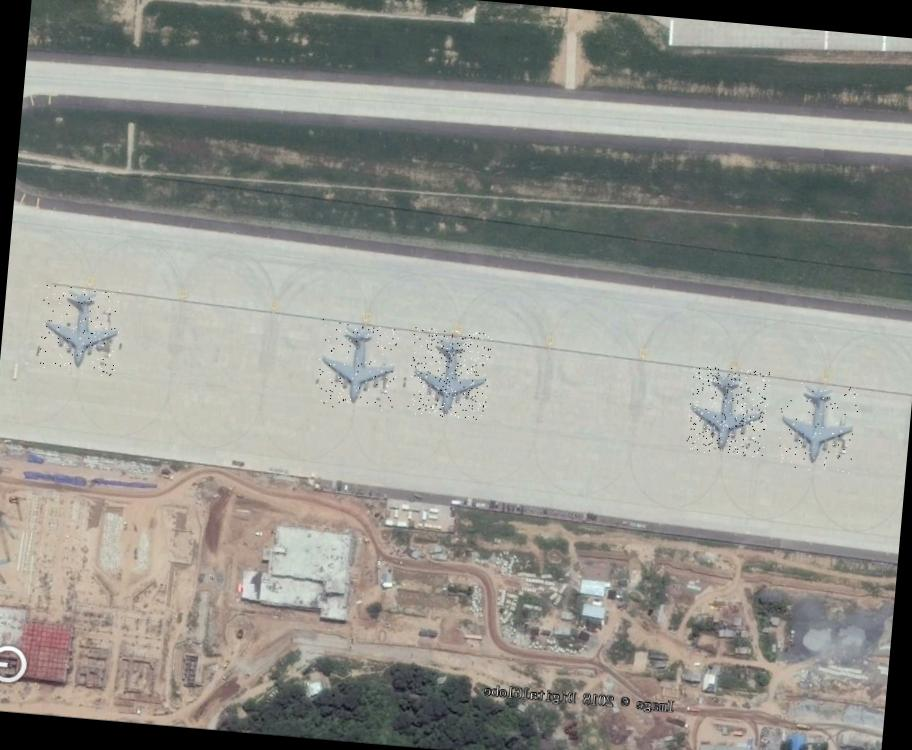A3: (406, 328, 492, 420), (315, 320, 400, 413), (37, 284, 122, 377), (776, 381, 860, 474), (686, 365, 770, 458)
